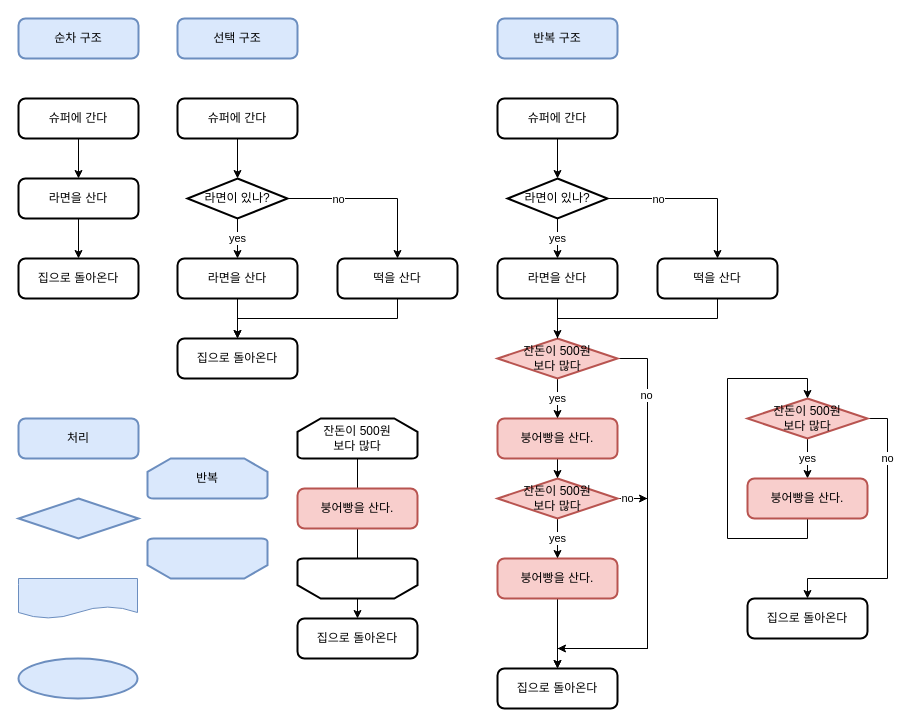
Image size: 913x726. Some labels were removed from this diagram. The shapes that lost their labels are listed below. From the top down, each one's centre as x and y in pixels, then its label:
At point (78, 518): "분기".
At point (78, 598): "출력".
At point (77, 678): "시작 / 끝".
